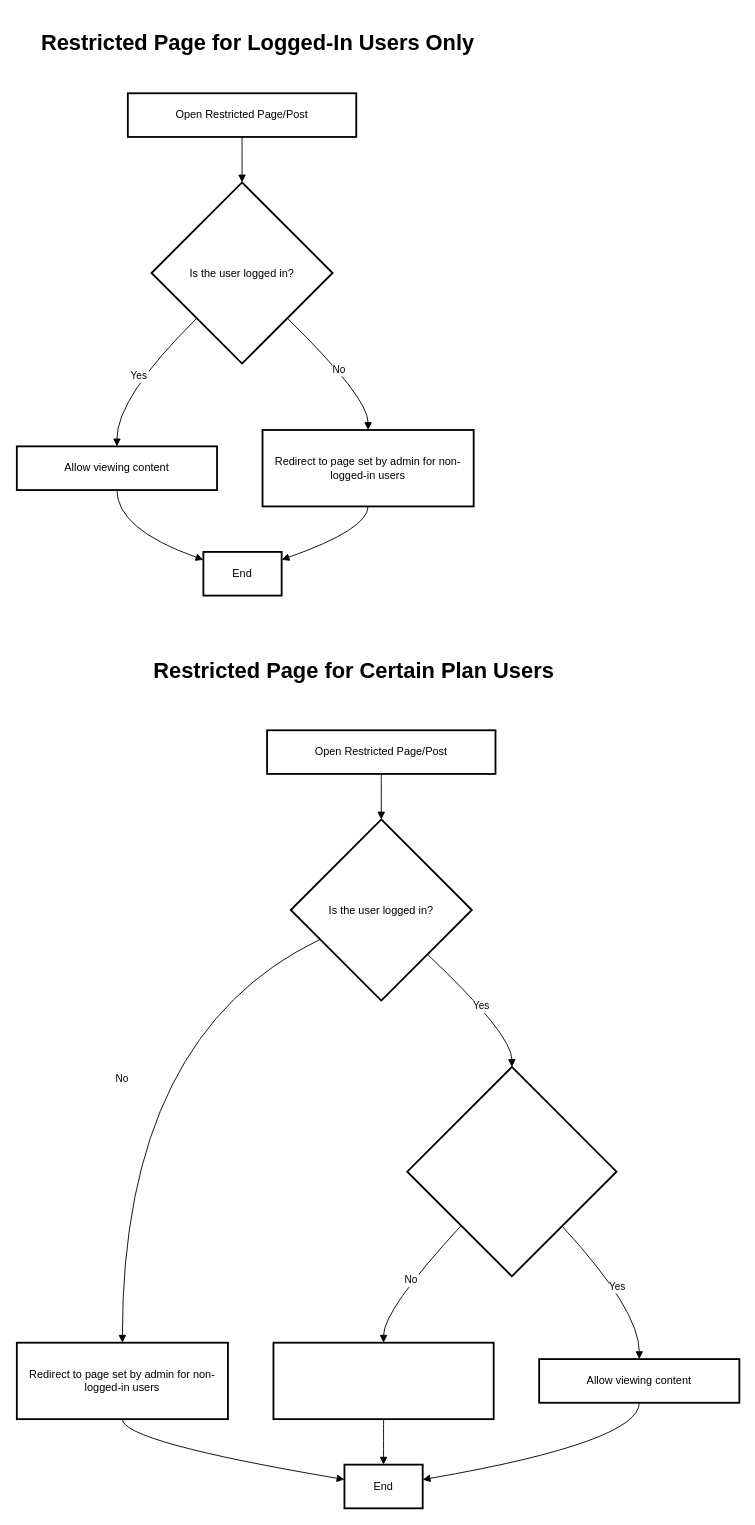
Some shapes in this 755 by 1525 pixel diagram are drawn without their labels. The shapes that lost their labels are listed below. From the top down, each one's centre as x and y in pixels, then its label:
At pixel 511 1171: "Does the user have the required plan?".
At pixel 383 1380: "Redirect to page set by admin for logged-in users without access".
